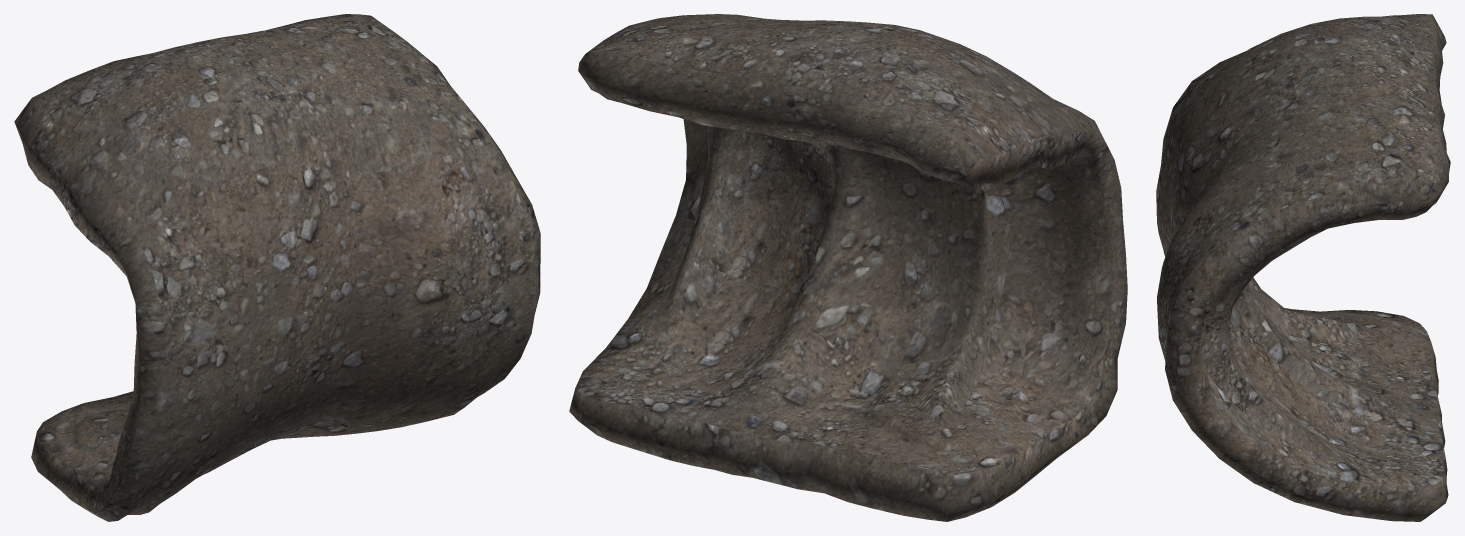
The model's file is cave_module_side_ribbed.dae.
3 views of the same model, side by side, from view 1: azimuth 30°, elevation 25°; view 2: azimuth 150°, elevation 25°; view 3: azimuth 270°, elevation 25° (orthographic). The views are drawn at different scales.
Visible parts, largest first — view 1: side_ribbed; view 2: side_ribbed; view 3: side_ribbed.
Boxes of the visible parts, x1,y1,x2,y2 form: side_ribbed: [14, 14, 540, 521]; side_ribbed: [569, 14, 1127, 521]; side_ribbed: [1156, 14, 1450, 521].
Size of what is drawn, in the model's own units: 9.36 by 8.88 by 5.97.
